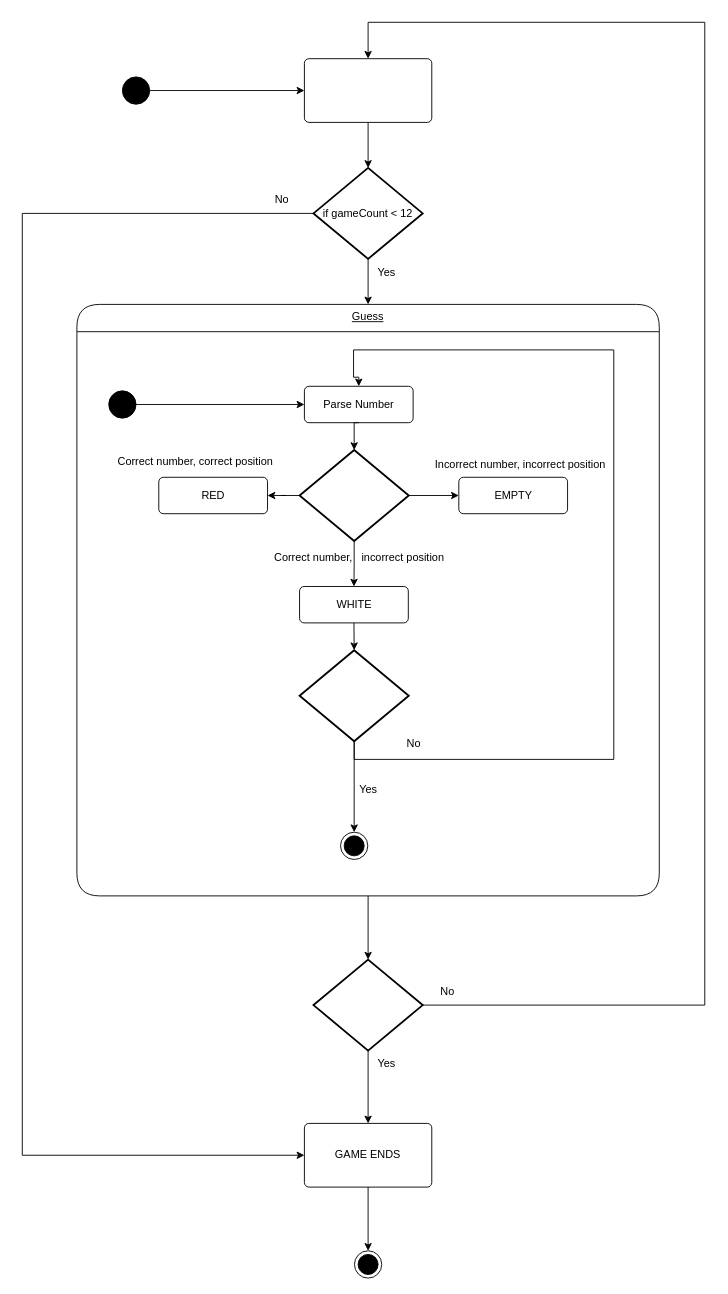
This 728x1294 diagram has some shape labels left out. The centre of each missing label's shape, as x and y in pixels:
"Compare to Key" belongs at (353,495).
"If all RED" belongs at (367,1004).
"If last number" belongs at (353,695).
"User GUESS STARTS" belongs at (367,90).
